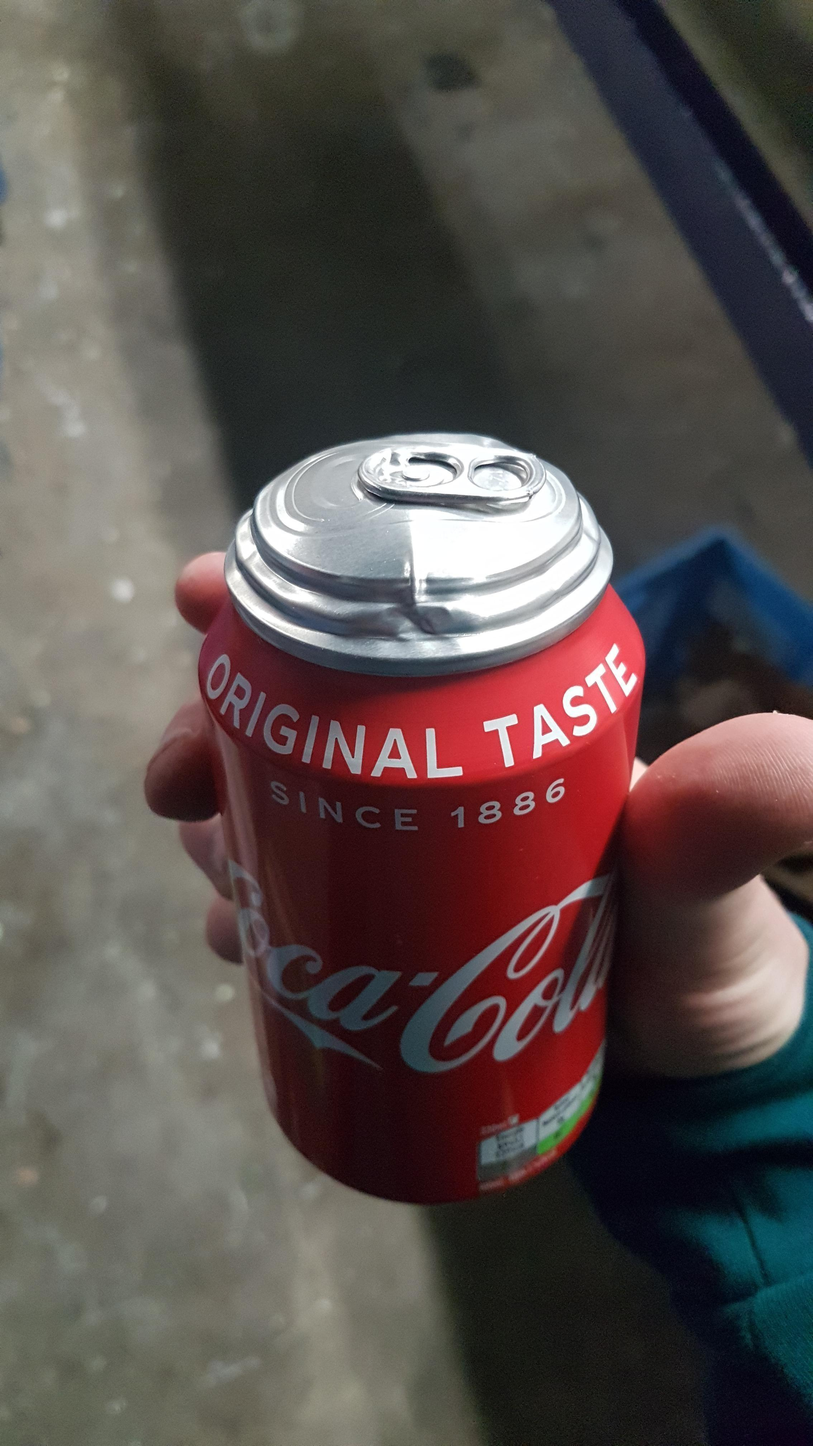tin can: (190, 434, 651, 1201)
